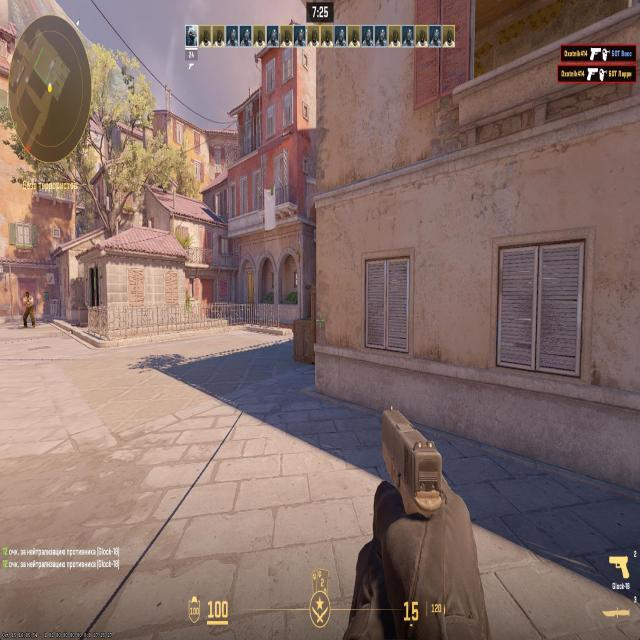T: (24, 293, 33, 324)
T_heat: (26, 295, 30, 301)
